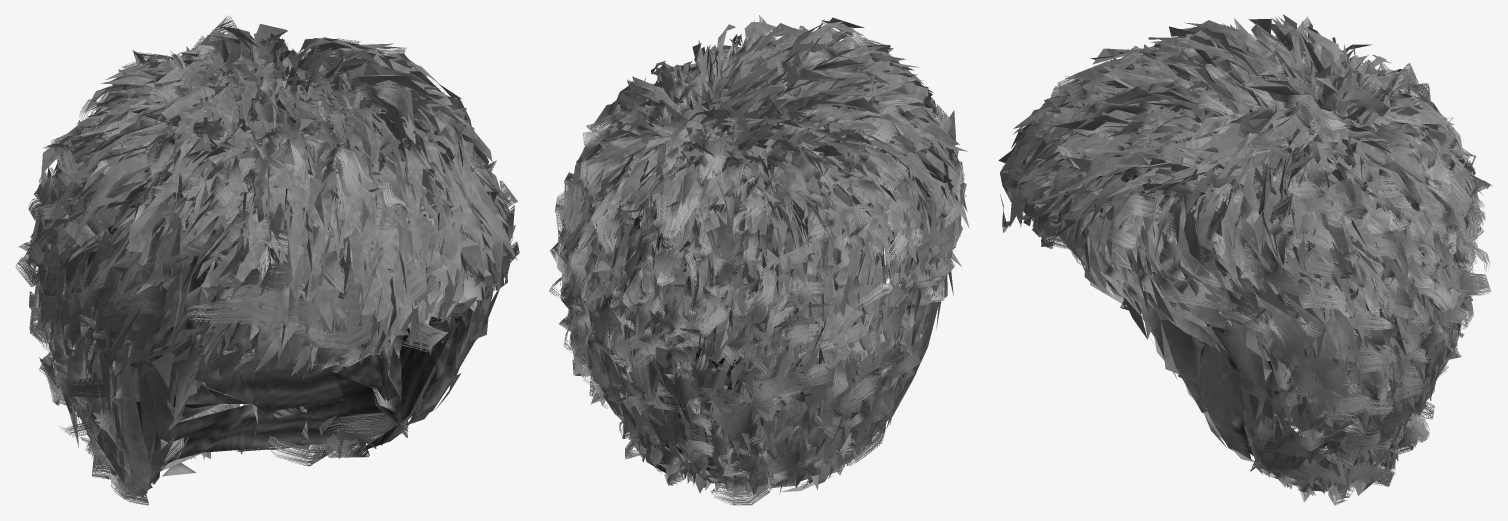
The model's file is hair_crop.glb.
3 views of the same model, side by side, from view 1: azimuth 30°, elevation 25°; view 2: azimuth 150°, elevation 25°; view 3: azimuth 270°, elevation 25° (orthographic). The views are drawn at different scales.
Parts seen in each view (by area): view 1: Mesh_0, haircards; view 2: Mesh_0, haircards; view 3: Mesh_0, haircards.
Part boxes in pixels (<box>): Mesh_0: <box>28,24,517,501</box>; haircards: <box>15,16,519,505</box>; Mesh_0: <box>557,17,969,496</box>; haircards: <box>549,15,966,505</box>; Mesh_0: <box>998,14,1480,499</box>; haircards: <box>1000,16,1492,505</box>.
Size of the model in its own units: 0.2022 by 0.2303 by 0.238.
2 materials, 2 textured.
